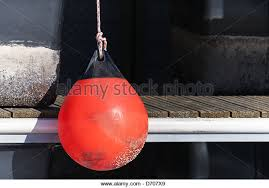buoy: (58, 77, 150, 171)
